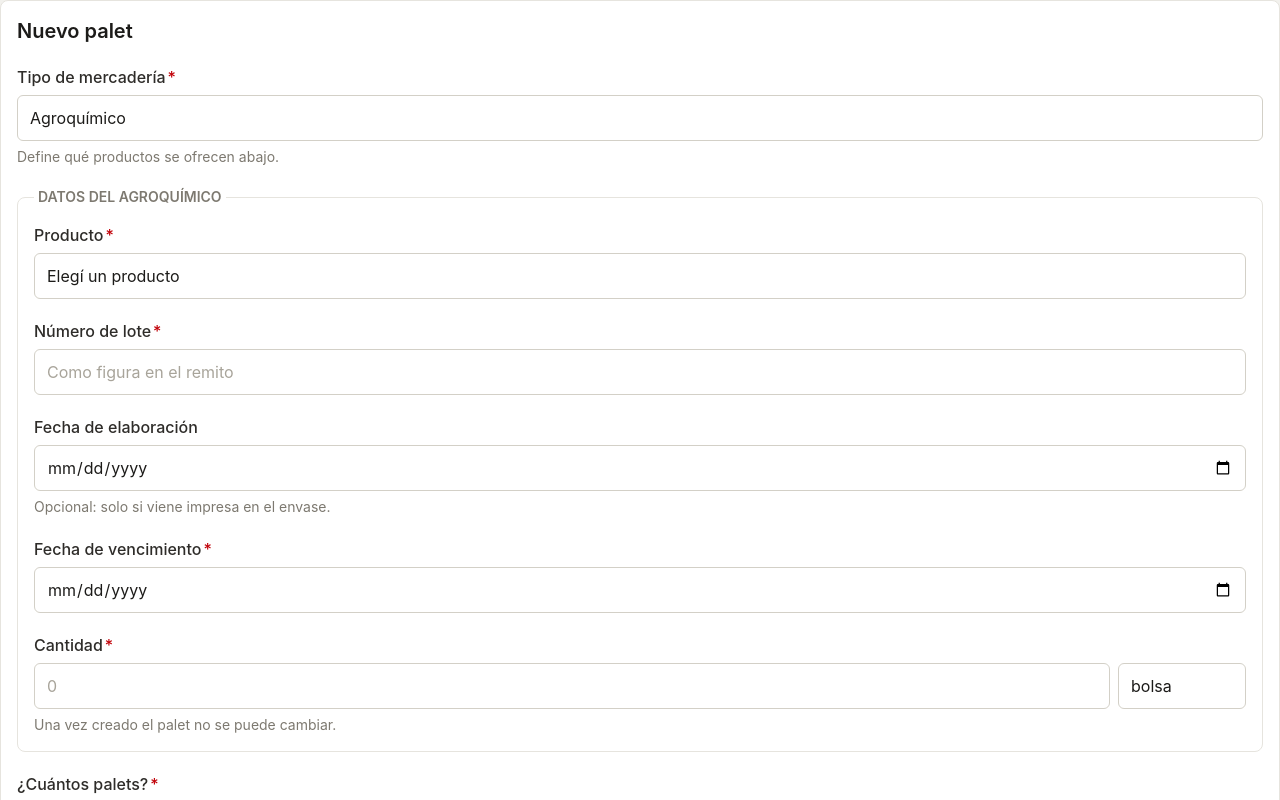
palet de semilla › pide el producto y además el híbrido: son dos datos distintos
This screenshot has width=1280, height=800.
Select "Semilla" in the dropdown labelled "Tipo de mercadería*" at (640, 118), box x1=17 y1=95 x2=1263 y2=141
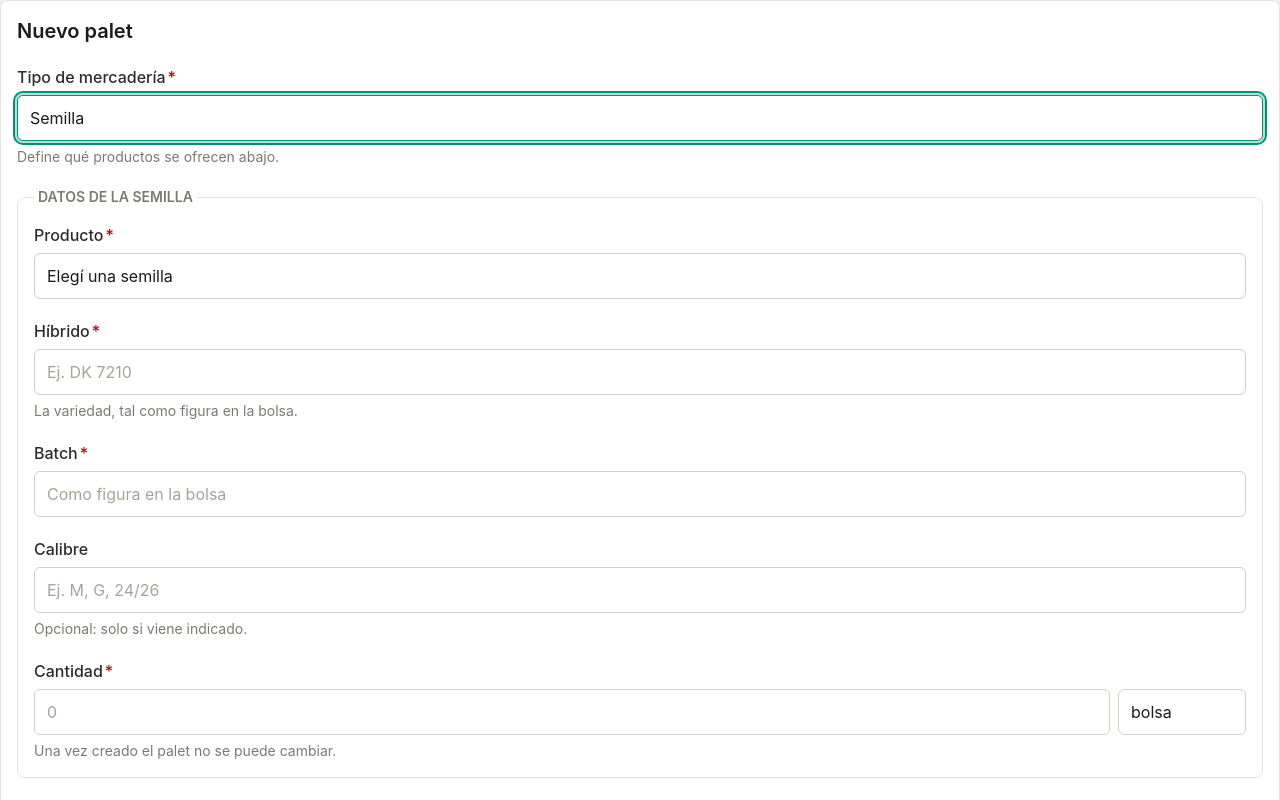
Expected: the dropdown labelled "Producto*" is shown, x1=34 y1=253 x2=1246 y2=299
Expected: the field labelled "Híbrido*" is shown, x1=34 y1=349 x2=1246 y2=395
Expected: the field labelled "Batch*" is shown, x1=34 y1=471 x2=1246 y2=517
